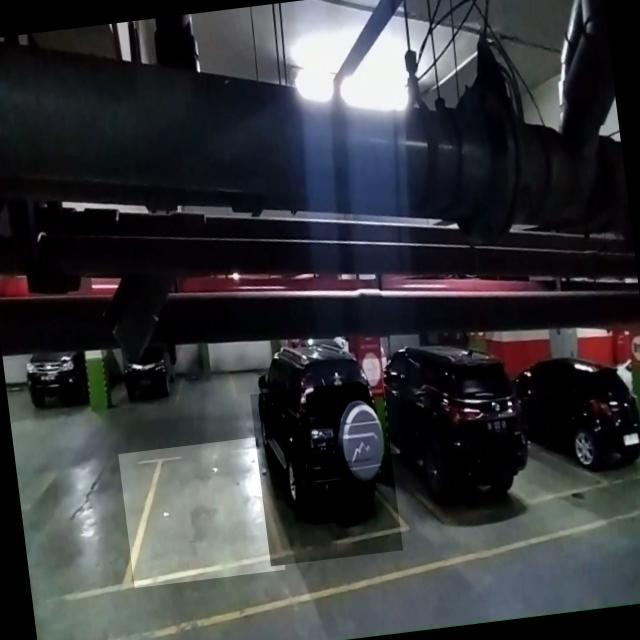empty: (117, 435, 286, 588)
occupied: (250, 378, 402, 566)
